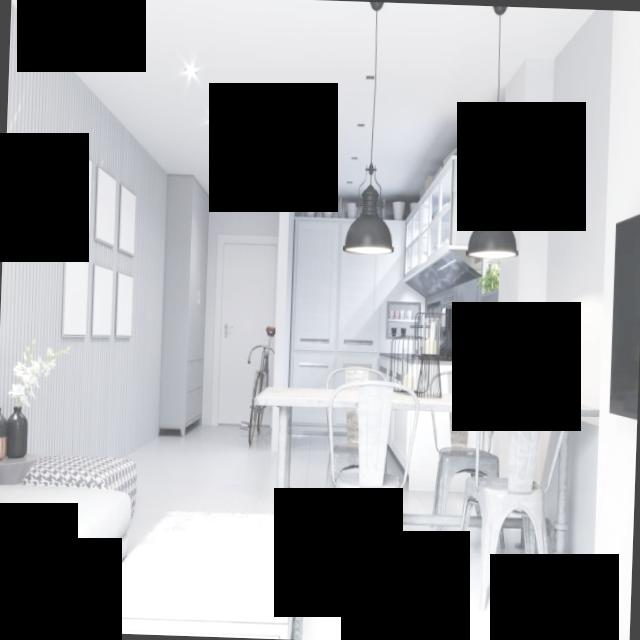modern chair: (446, 375, 580, 614), (318, 377, 426, 606)
modern desk: (76, 492, 304, 640)
